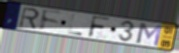3: (118, 20, 137, 43)
F: (86, 15, 112, 39), (39, 8, 63, 32)
L: (67, 13, 84, 37)
M: (135, 21, 164, 48)
R: (18, 7, 41, 31)
